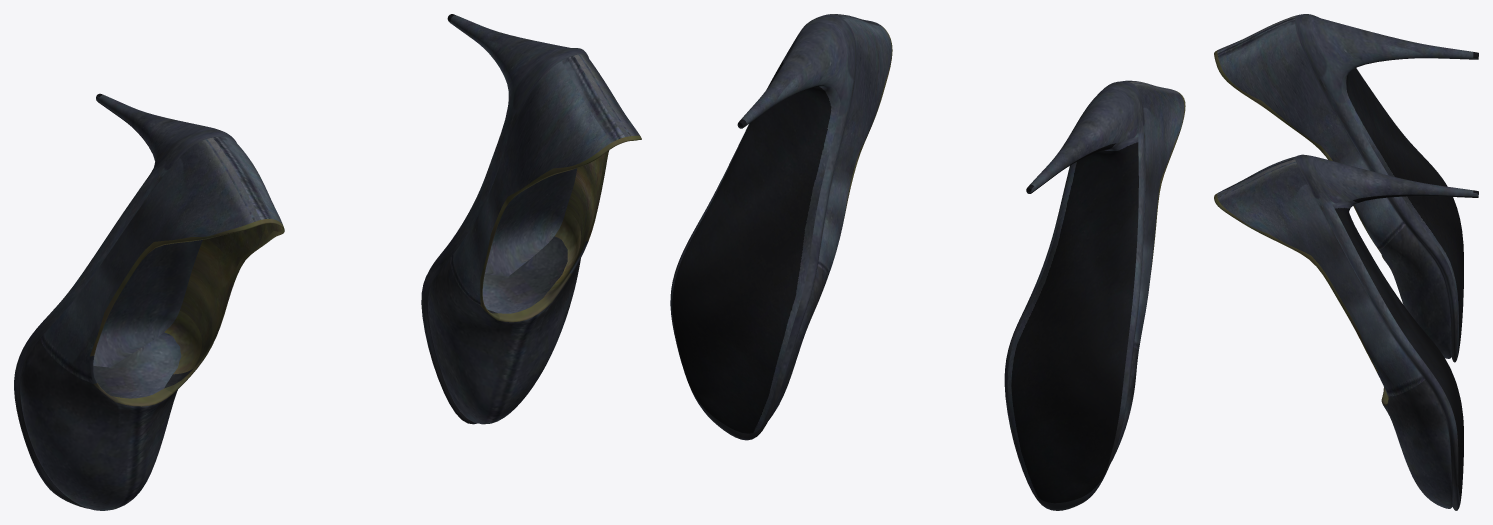
The model's file is 10141_HighHeelShoe_v3_L3.obj.
3 renders of one model, left to right at view 1: azimuth 30°, elevation 25°; view 2: azimuth 150°, elevation 25°; view 3: azimuth 270°, elevation 25°, orthographic. The views are drawn at different scales.
Visible parts, largest first — view 1: 10141_HighHeelShoe_v004, 10141_HighHeelShoe_v03; view 2: 10141_HighHeelShoe_v03, 10141_HighHeelShoe_v004; view 3: 10141_HighHeelShoe_v004, 10141_HighHeelShoe_v03.
Boxes of the visible parts, x1=… form: 10141_HighHeelShoe_v004: x1=14, y1=93, x2=284, y2=510; 10141_HighHeelShoe_v03: x1=421, y1=14, x2=641, y2=424; 10141_HighHeelShoe_v03: x1=670, y1=14, x2=892, y2=440; 10141_HighHeelShoe_v004: x1=1004, y1=80, x2=1185, y2=510; 10141_HighHeelShoe_v004: x1=1214, y1=14, x2=1478, y2=362; 10141_HighHeelShoe_v03: x1=1214, y1=154, x2=1478, y2=510.
Size of the model in its own units: 15.99 by 12.43 by 8.48.
1 material, 1 textured.
